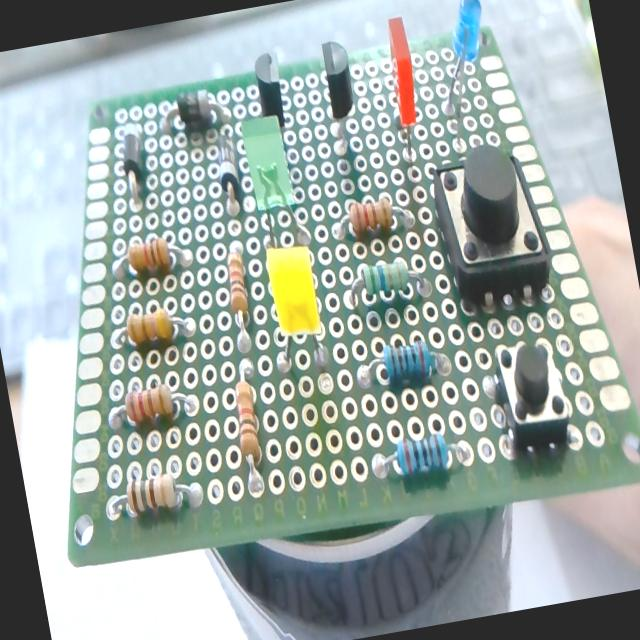diode: (112, 118, 156, 207), (157, 84, 232, 136), (212, 132, 244, 202)
led: (422, 0, 503, 144), (255, 228, 332, 372), (377, 15, 431, 166), (242, 117, 296, 210)
resistor: (222, 356, 276, 496), (368, 422, 473, 482), (356, 334, 452, 392), (342, 252, 432, 310), (109, 468, 203, 522), (105, 379, 197, 433), (327, 190, 413, 244), (220, 246, 260, 356), (110, 230, 192, 282), (112, 304, 195, 353)
switch: (425, 141, 556, 315), (484, 332, 576, 456)
transistor: (314, 36, 364, 152), (249, 50, 296, 154)
